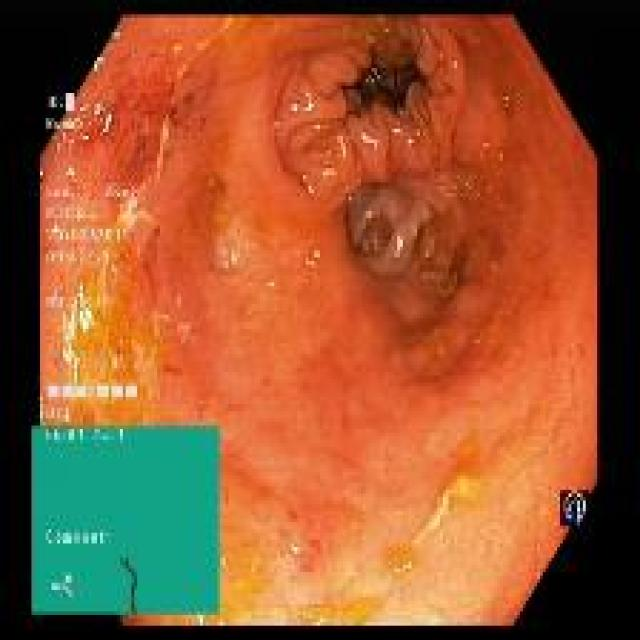ulcerative-colitis: (40, 19, 596, 623)
